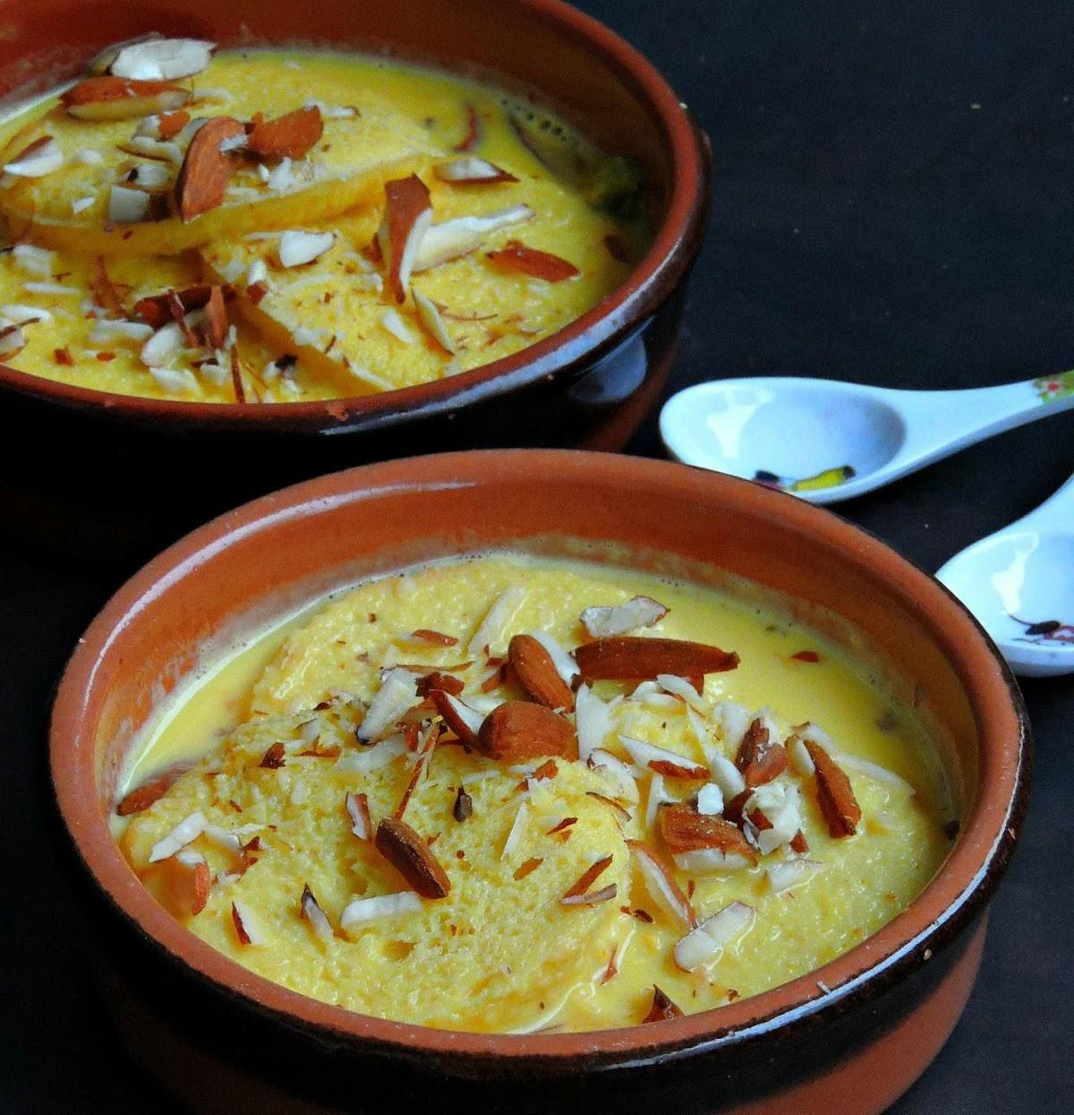RasMalai: (119, 555, 957, 1036), (0, 0, 649, 395)
